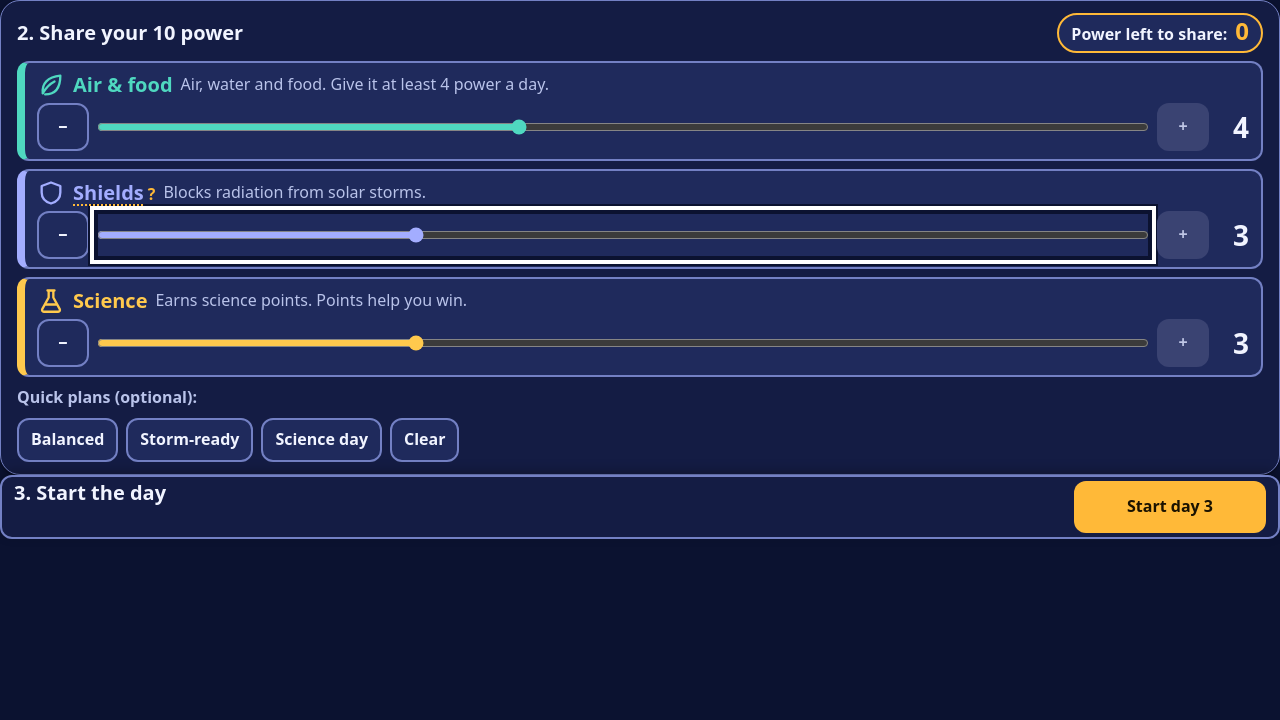
PowerAllocator › arrow keys on a slider are handled natively (change events apply)
Set the slider named "Shields units" to "2" at (312, 235), box [97,213,1149,257]
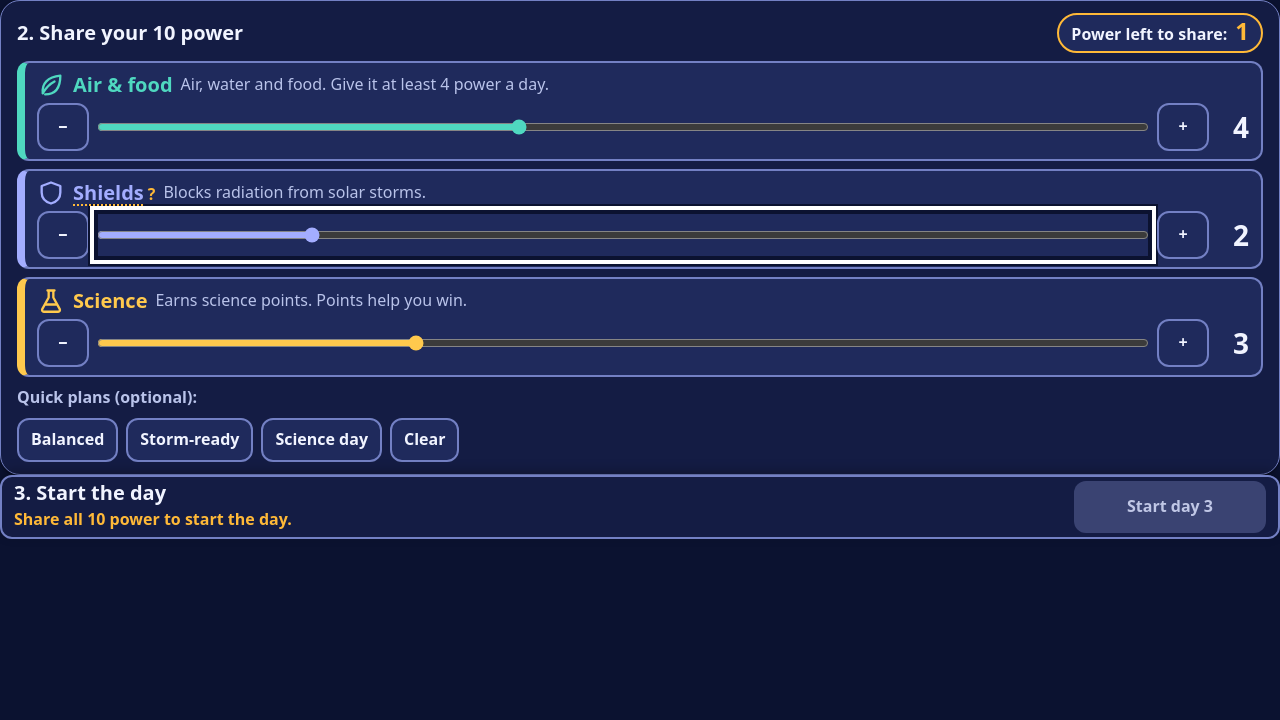
Expected: the text "Power left to share: 1" is shown, [1057,13,1263,53]
